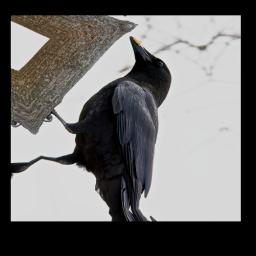Crow: (14, 31, 204, 221)
